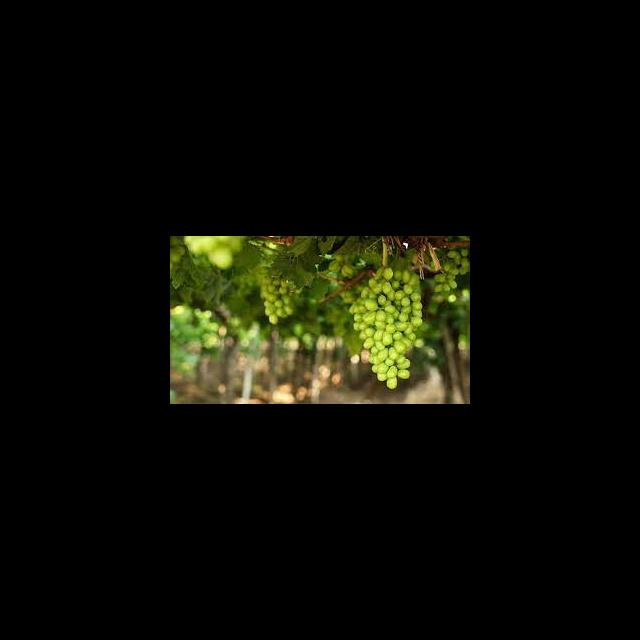grape: (348, 266, 423, 389)
